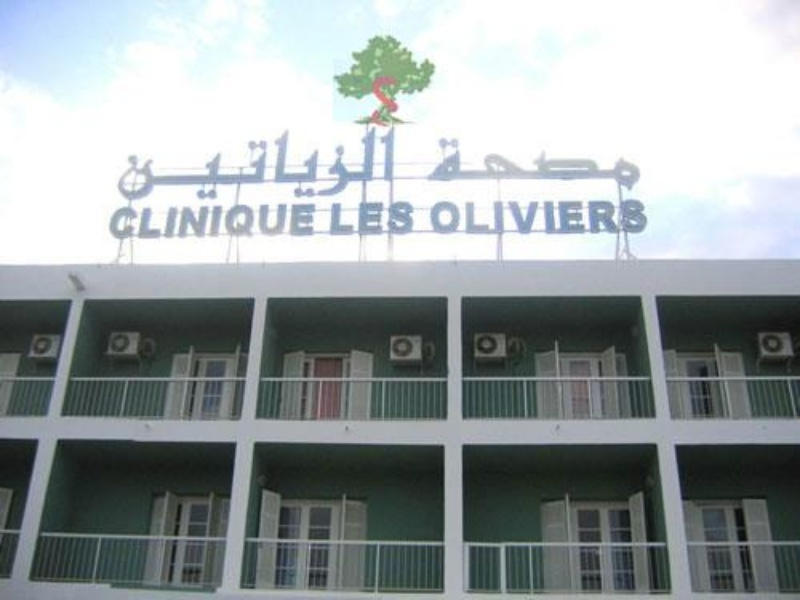text: (129, 124, 144, 205), (145, 124, 160, 205), (161, 124, 176, 205), (177, 124, 192, 205), (193, 124, 208, 205), (209, 124, 224, 205), (225, 124, 240, 205), (241, 124, 256, 205), (257, 124, 272, 205), (273, 124, 288, 205), (289, 124, 304, 205), (305, 124, 320, 205), (321, 124, 336, 205), (337, 124, 352, 205), (353, 124, 368, 205), (369, 124, 384, 205), (385, 124, 399, 205), (433, 135, 448, 194), (449, 135, 464, 194), (465, 135, 480, 194), (481, 135, 496, 194), (497, 135, 512, 194), (513, 135, 528, 194), (529, 135, 544, 194), (545, 135, 560, 194), (561, 135, 576, 194), (577, 135, 592, 194), (593, 135, 608, 194), (609, 135, 624, 194), (625, 135, 640, 194), (433, 196, 448, 237), (449, 196, 464, 237), (465, 196, 480, 237), (481, 196, 496, 237), (497, 196, 512, 237), (513, 196, 528, 237), (529, 196, 544, 237), (545, 196, 560, 237), (561, 196, 576, 237), (577, 196, 592, 237), (593, 196, 608, 237), (609, 196, 624, 237), (625, 196, 640, 237), (113, 204, 128, 241), (129, 204, 144, 241), (145, 204, 160, 241), (161, 204, 176, 241), (177, 204, 192, 241), (193, 204, 208, 241), (209, 204, 224, 241), (225, 204, 240, 241), (241, 204, 256, 241), (257, 204, 272, 241), (273, 204, 288, 241), (289, 204, 304, 241), (337, 202, 352, 237), (353, 202, 368, 237), (369, 202, 384, 237), (385, 202, 400, 237), (401, 202, 416, 237), (122, 124, 128, 205), (305, 204, 317, 241), (641, 135, 647, 194), (641, 196, 649, 237), (428, 135, 432, 194), (330, 202, 336, 237), (428, 196, 432, 237), (109, 204, 112, 241), (417, 202, 418, 237)
